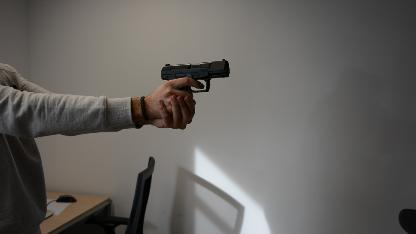pistol: (160, 58, 230, 94)
